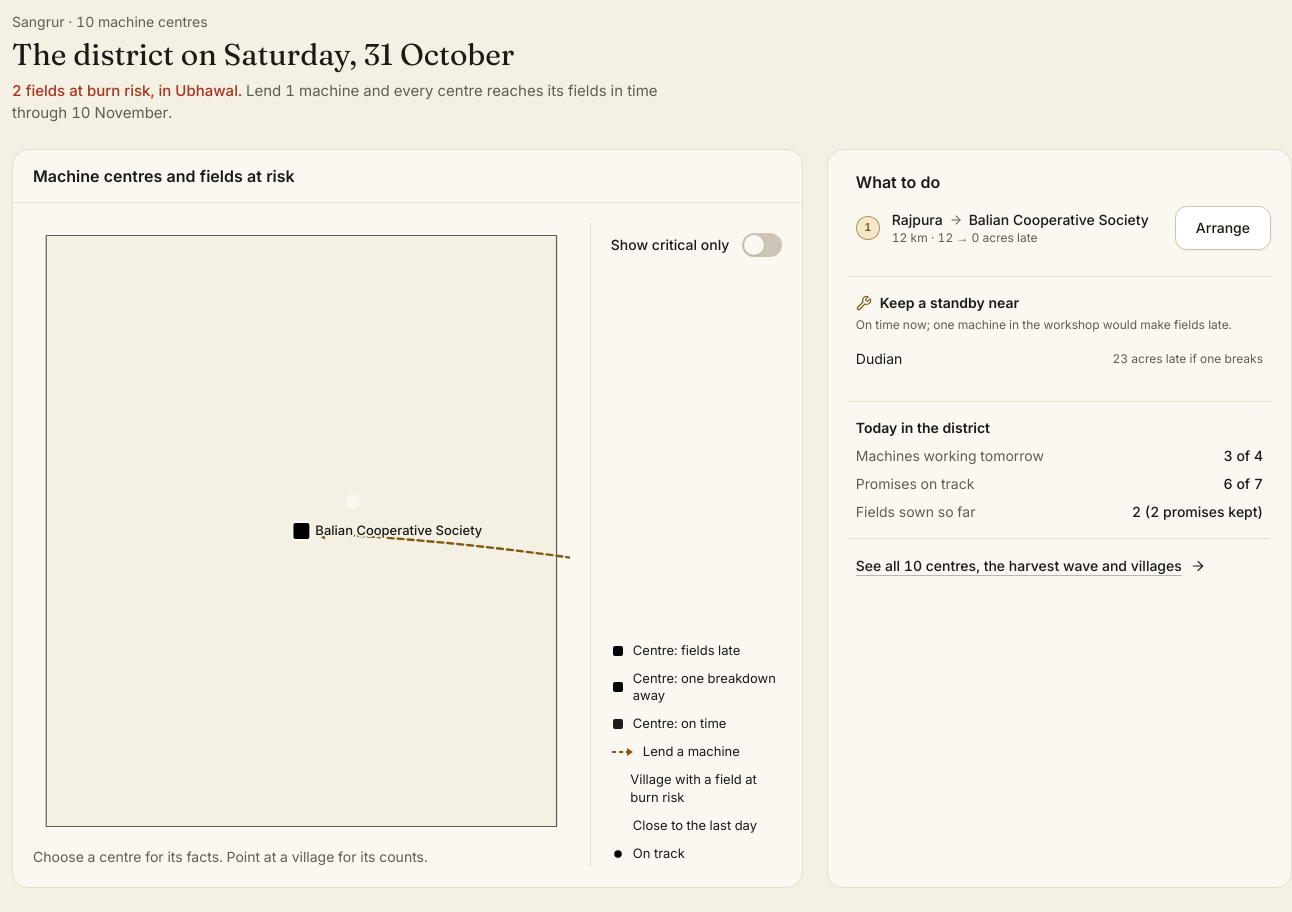
it: officer district (the map page) › says what to do, and choosing a loan shows the borrowing centre's facts
Check: the button "Dudian 23 acres late if one breaks" is shown, box [848,336,1271,380]
Click the button named "Lend one machine from Rajpura to Balian Cooperative Society." at (1009,228), box [848,200,1171,256]
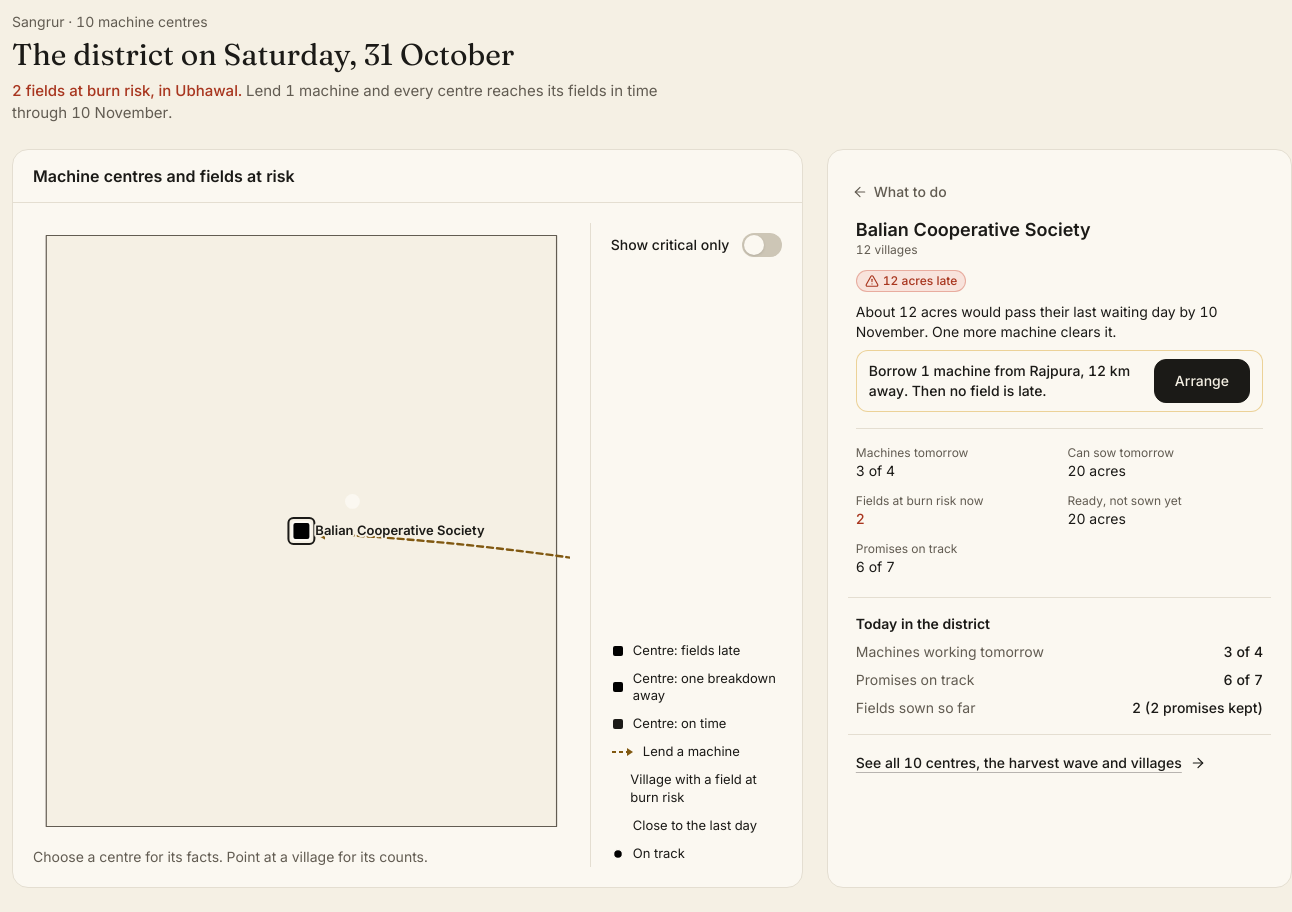
Check: the text "Borrow 1 machine from Rajpura, 12 km away. Then no field is late." is shown, box [869,361,1142,401]
Check: the text "12 acres late" is shown, box [856,270,966,292]
Click the button "What to do" at (899,192), box [848,170,951,214]
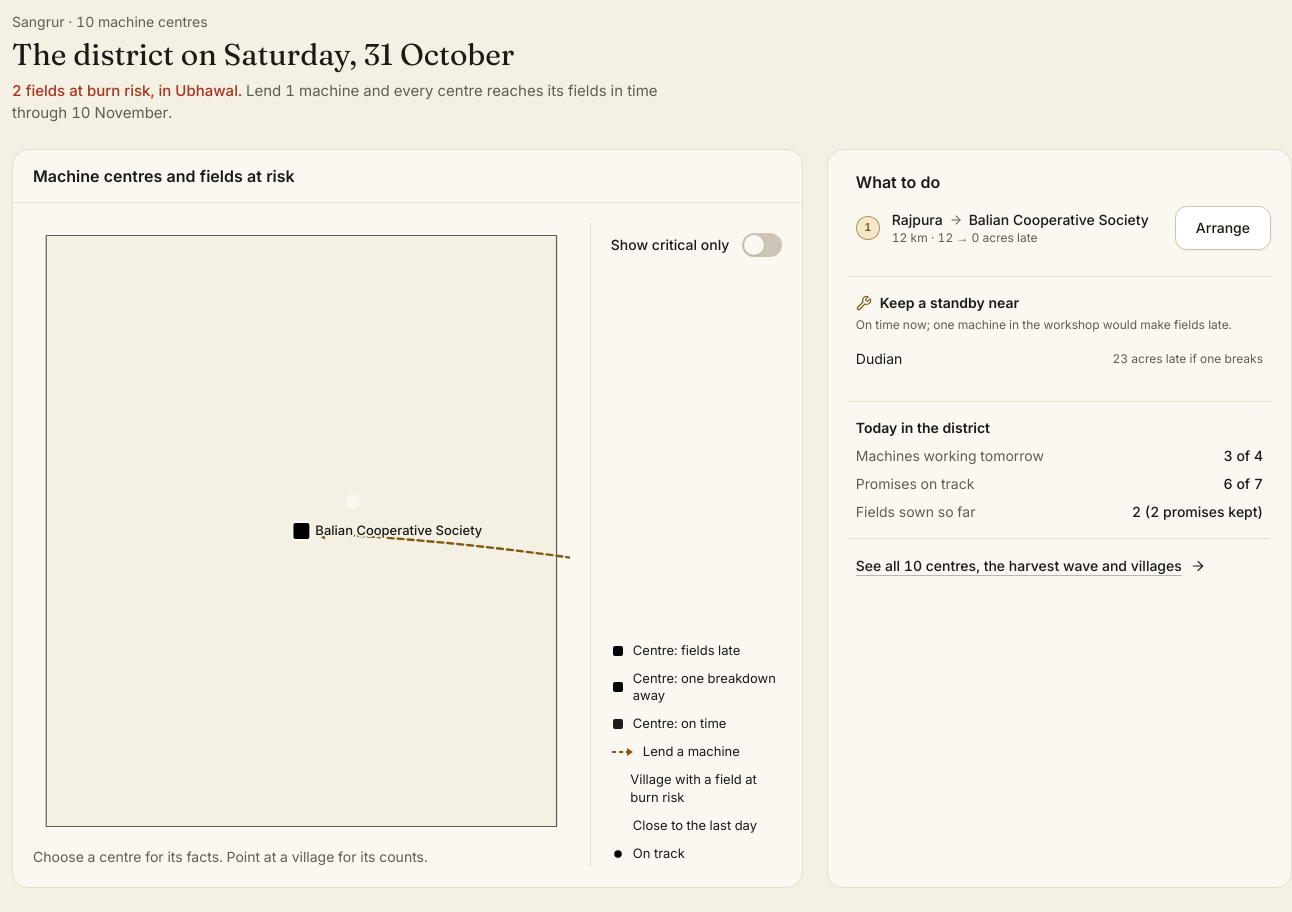
Check: the element "What to do" is shown, box [848,170,1271,256]
